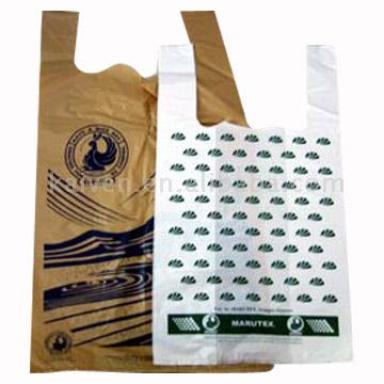plasticbag: (28, 8, 352, 378)
